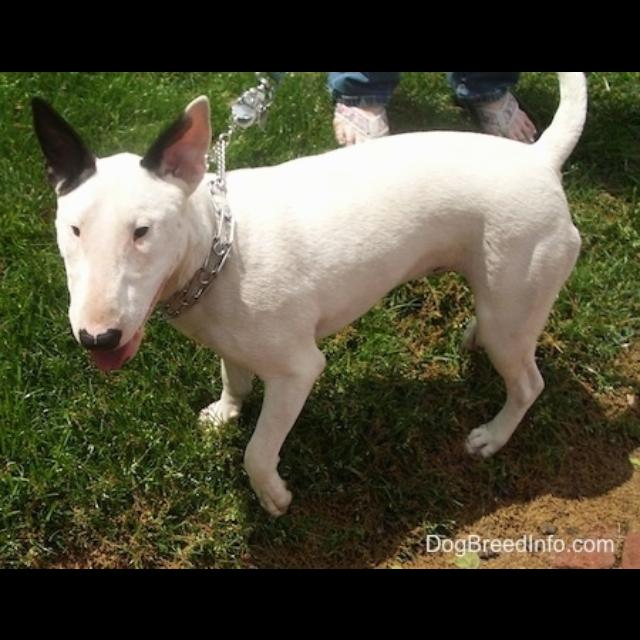bullterrier: (30, 72, 590, 520)
